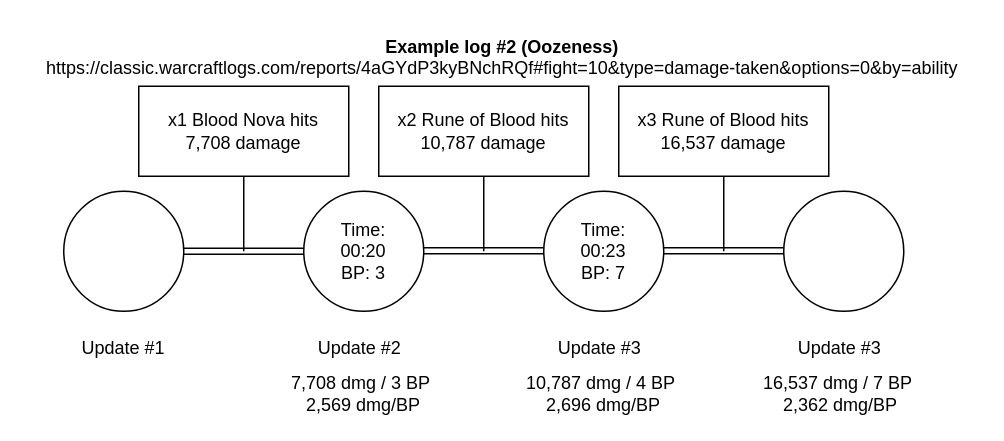
Image size: 1004x441. Some labels were removed from this diagram. The centre of each missing label's shape, as x and y in pixels:
"Time: 00:17 BP: 0" belongs at pixel 123 250.
"Time: 00:26 BP: 14" belongs at pixel 843 250.
